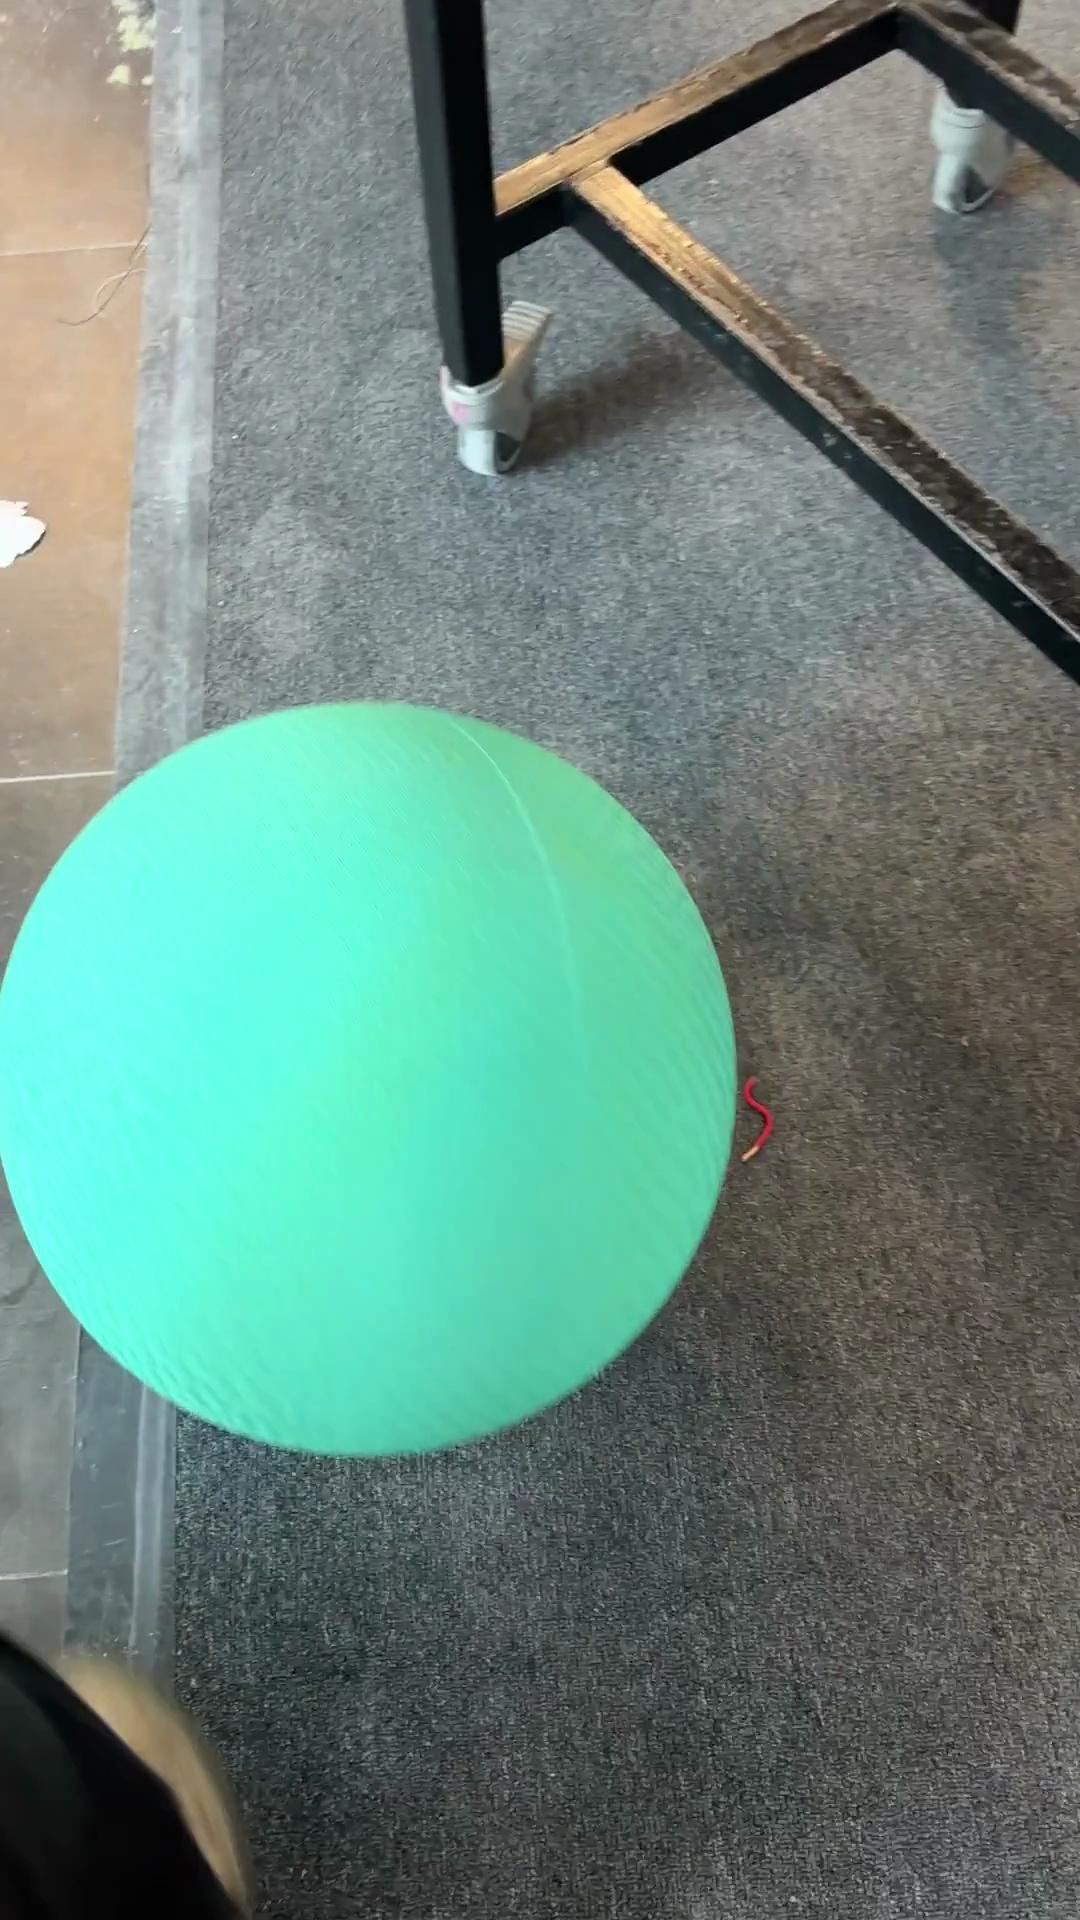ALGAE: (1, 696, 740, 1460)
